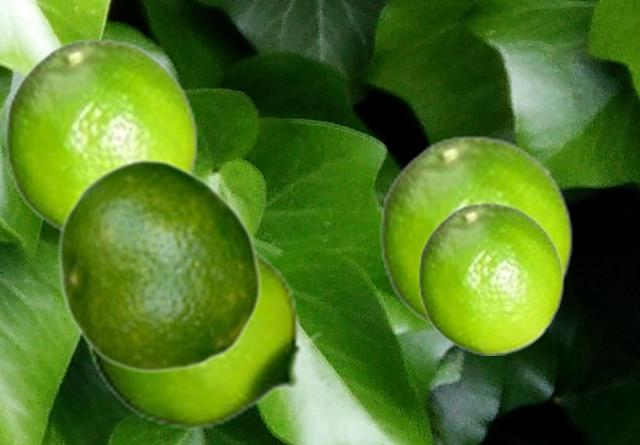calamansi: (56, 157, 262, 373), (86, 244, 324, 429), (379, 134, 573, 335), (4, 37, 198, 233), (417, 201, 564, 354)
